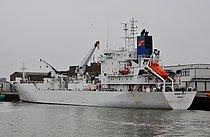Ship: (7, 27, 202, 116)
